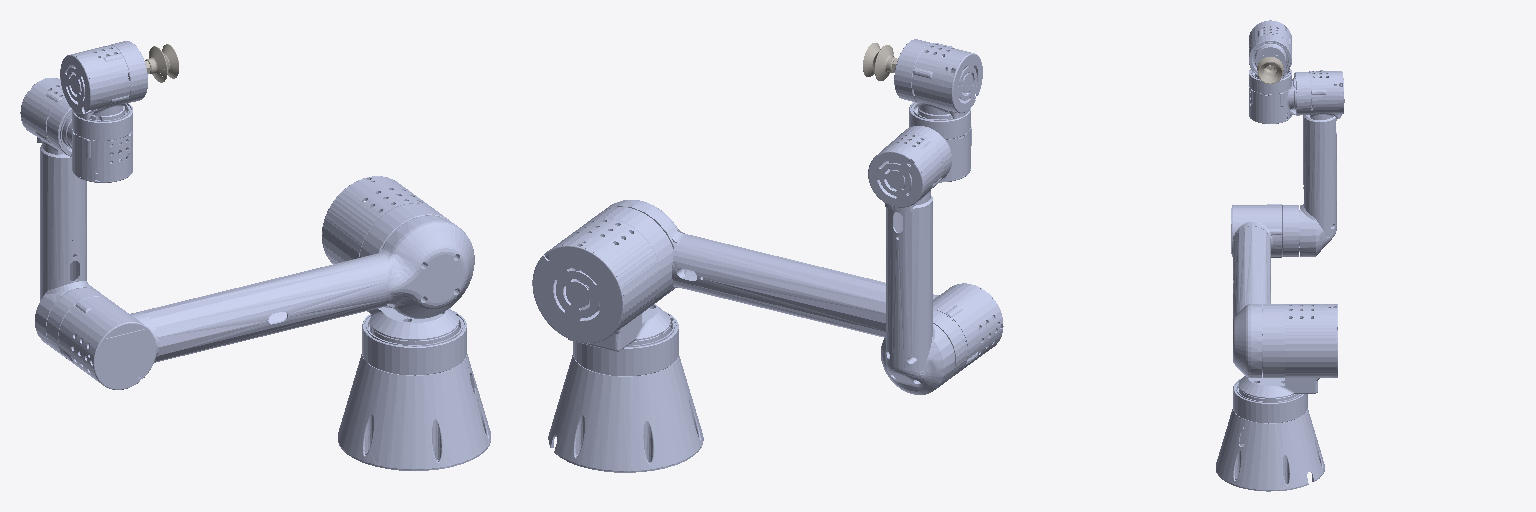
The robot description file, URDF, robot "arm_vD":
<?xml version="1.0" encoding="utf-8"?>
<!-- This URDF was automatically created by SolidWorks to URDF Exporter! Originally created by [author] ([email redacted]) 
     Commit Version: 1.5.1-0-g916b5db  Build Version: 1.5.7152.31018
     For more information, please see http://wiki.ros.org/sw_urdf_exporter -->
<robot
  name="arm_vD">
  <link
    name="base_link">
    <inertial>
      <origin
        xyz="0.00061411 0.00027568 0.062265"
        rpy="0 0 0" />
      <mass
        value="0.25197" />
      <inertia
        ixx="0.00018494"
        ixy="2.8875E-07"
        ixz="-1.4348E-07"
        iyy="0.0001849"
        iyz="-5.4126E-07"
        izz="0.00027998" />
    </inertial>
    <visual>
      <origin
        xyz="0 0 0"
        rpy="0 0 0" />
      <geometry>
        <mesh
          filename="package://arm_vD/meshes/base_link.STL" />
      </geometry>
      <material
        name="">
        <color
          rgba="0.79216 0.81961 0.93333 1" />
      </material>
    </visual>
    <collision>
      <origin
        xyz="0 0 0"
        rpy="0 0 0" />
      <geometry>
        <mesh
          filename="package://arm_vD/meshes/base_link.STL" />
      </geometry>
    </collision>
  </link>
  <link
    name="one">
    <inertial>
      <origin
        xyz="-1.82128637420953E-05 0.0198198054791734 0.0584645120644824"
        rpy="0 0 0" />
      <mass
        value="0.342035178752218" />
      <inertia
        ixx="0.000350078912828304"
        ixy="-9.99545426015234E-10"
        ixz="1.47478184311647E-07"
        iyy="0.000463072028541657"
        iyz="-4.2019912007088E-05"
        izz="0.000299054668404506" />
    </inertial>
    <visual>
      <origin
        xyz="0 0 0"
        rpy="0 0 0" />
      <geometry>
        <mesh
          filename="package://arm_vD/meshes/one.STL" />
      </geometry>
      <material
        name="">
        <color
          rgba="0.792156862745098 0.819607843137255 0.933333333333333 1" />
      </material>
    </visual>
    <collision>
      <origin
        xyz="0 0 0"
        rpy="0 0 0" />
      <geometry>
        <mesh
          filename="package://arm_vD/meshes/one.STL" />
      </geometry>
    </collision>
  </link>
  <joint
    name="joint_one"
    type="revolute">
    <origin
      xyz="0.0007665 0.00087415 0.096926"
      rpy="0 0 0" />
    <parent
      link="base_link" />
    <child
      link="one" />
    <axis
      xyz="0 0 1" />
    <limit
      lower="0"
      upper="0"
      effort="0"
      velocity="0" />
  </joint>
  <link
    name="two">
    <inertial>
      <origin
        xyz="-0.299752573219372 -0.00807167893835456 0.00908043600399758"
        rpy="0 0 0" />
      <mass
        value="0.168290747081591" />
      <inertia
        ixx="4.93841680602432E-05"
        ixy="9.17204722303832E-07"
        ixz="4.97022541253983E-08"
        iyy="7.05286762607547E-05"
        iyz="-8.3071354643813E-09"
        izz="5.16667239026988E-05" />
    </inertial>
    <visual>
      <origin
        xyz="0 0 0"
        rpy="0 0 0" />
      <geometry>
        <mesh
          filename="package://arm_vD/meshes/two.STL" />
      </geometry>
      <material
        name="">
        <color
          rgba="0.792156862745098 0.819607843137255 0.933333333333333 1" />
      </material>
    </visual>
    <collision>
      <origin
        xyz="0 0 0"
        rpy="0 0 0" />
      <geometry>
        <mesh
          filename="package://arm_vD/meshes/two.STL" />
      </geometry>
    </collision>
  </link>
  <joint
    name="joint_two"
    type="revolute">
    <origin
      xyz="0 0 0.06715"
      rpy="0 -0.0306 0" />
    <parent
      link="one" />
    <child
      link="two" />
    <axis
      xyz="0 -1 0" />
    <limit
      lower="0"
      upper="0"
      effort="0"
      velocity="0" />
  </joint>
  <link
    name="three">
    <inertial>
      <origin
        xyz="0.000300777246945327 0.0522604486493257 0.112220635213957"
        rpy="0 0 0" />
      <mass
        value="0.103726489322884" />
      <inertia
        ixx="0.000187509324417779"
        ixy="-5.32066647912261E-07"
        ixz="-2.7029366014351E-08"
        iyy="0.000195656825410171"
        iyz="-1.28249794750113E-05"
        izz="3.05208557343435E-05" />
    </inertial>
    <visual>
      <origin
        xyz="0 0 0"
        rpy="0 0 0" />
      <geometry>
        <mesh
          filename="package://arm_vD/meshes/three.STL" />
      </geometry>
      <material
        name="">
        <color
          rgba="0.792156862745098 0.819607843137255 0.933333333333333 1" />
      </material>
    </visual>
    <collision>
      <origin
        xyz="0 0 0"
        rpy="0 0 0" />
      <geometry>
        <mesh
          filename="package://arm_vD/meshes/three.STL" />
      </geometry>
    </collision>
  </link>
  <joint
    name="joint_three"
    type="revolute">
    <origin
      xyz="-0.30306 0 0.0092765"
      rpy="0 0.0306 0" />
    <parent
      link="two" />
    <child
      link="three" />
    <axis
      xyz="0 1 0" />
    <limit
      lower="0"
      upper="0"
      effort="0"
      velocity="0" />
  </joint>
  <link
    name="four">
    <inertial>
      <origin
        xyz="-5.75271244234732E-05 0.00157354315545316 0.00647949436807055"
        rpy="0 0 0" />
      <mass
        value="0.0541218660786479" />
      <inertia
        ixx="1.34547189315118E-05"
        ixy="-1.79650674199099E-08"
        ixz="-1.52298519776758E-09"
        iyy="1.14562531982262E-05"
        iyz="-2.62969192282698E-08"
        izz="2.03028491505944E-05" />
    </inertial>
    <visual>
      <origin
        xyz="0 0 0"
        rpy="0 0 0" />
      <geometry>
        <mesh
          filename="package://arm_vD/meshes/four.STL" />
      </geometry>
      <material
        name="">
        <color
          rgba="0.792156862745098 0.819607843137255 0.933333333333333 1" />
      </material>
    </visual>
    <collision>
      <origin
        xyz="0 0 0"
        rpy="0 0 0" />
      <geometry>
        <mesh
          filename="package://arm_vD/meshes/four.STL" />
      </geometry>
    </collision>
  </link>
  <joint
    name="joint_four"
    type="revolute">
    <origin
      xyz="0.0044683 0.00034551 0.1778"
      rpy="0 0 0.07717" />
    <parent
      link="three" />
    <child
      link="four" />
    <axis
      xyz="0 -1 0" />
    <limit
      lower="0"
      upper="0"
      effort="0"
      velocity="0" />
  </joint>
  <link
    name="five">
    <inertial>
      <origin
        xyz="0.00763665732898861 -0.000491971526634216 0.0450104083826423"
        rpy="0 0 0" />
      <mass
        value="0.0392861494708692" />
      <inertia
        ixx="1.77025812137777E-05"
        ixy="-4.57780235223266E-07"
        ixz="2.74507610583042E-08"
        iyy="1.17800129679942E-05"
        iyz="-2.07016372069683E-08"
        izz="1.00053312879359E-05" />
    </inertial>
    <visual>
      <origin
        xyz="0 0 0"
        rpy="0 0 0" />
      <geometry>
        <mesh
          filename="package://arm_vD/meshes/five.STL" />
      </geometry>
      <material
        name="">
        <color
          rgba="0.792156862745098 0.819607843137255 0.933333333333333 1" />
      </material>
    </visual>
    <collision>
      <origin
        xyz="0 0 0"
        rpy="0 0 0" />
      <geometry>
        <mesh
          filename="package://arm_vD/meshes/five.STL" />
      </geometry>
    </collision>
  </link>
  <joint
    name="joint_five"
    type="revolute">
    <origin
      xyz="0 -0.00016552 0.01115"
      rpy="0 0 0" />
    <parent
      link="four" />
    <child
      link="five" />
    <axis
      xyz="0 0 1" />
    <limit
      lower="0"
      upper="0"
      effort="0"
      velocity="0" />
  </joint>
  <link
    name="end">
    <inertial>
      <origin
        xyz="0.0357317059660863 -0.00277607558091905 -2.18326698631088E-06"
        rpy="0 0 0" />
      <mass
        value="0.0244146645106976" />
      <inertia
        ixx="2.2100041218775E-06"
        ixy="7.69507241686945E-08"
        ixz="6.96441497044803E-11"
        iyy="3.18819969170775E-06"
        iyz="-4.75902554422469E-10"
        izz="3.1971730112937E-06" />
    </inertial>
    <visual>
      <origin
        xyz="0 0 0"
        rpy="0 0 0" />
      <geometry>
        <mesh
          filename="package://arm_vD/meshes/end.STL" />
      </geometry>
      <material
        name="">
        <color
          rgba="0.776470588235294 0.756862745098039 0.737254901960784 1" />
      </material>
    </visual>
    <collision>
      <origin
        xyz="0 0 0"
        rpy="0 0 0" />
      <geometry>
        <mesh
          filename="package://arm_vD/meshes/end.STL" />
      </geometry>
    </collision>
  </link>
  <joint
    name="end_joint"
    type="revolute">
    <origin
      xyz="0.013921 -0.0010764 0.046975"
      rpy="0 0 0" />
    <parent
      link="five" />
    <child
      link="end" />
    <axis
      xyz="-0.99702 0.077094 0" />
    <limit
      lower="0"
      upper="0"
      effort="0"
      velocity="0" />
  </joint>
</robot>

--- Facts derived from the render (not from the file) ---
The picture shows the robot from 3 angles, left to right: view 1: azimuth 30°, elevation 25°; view 2: azimuth 150°, elevation 25°; view 3: azimuth 270°, elevation 25°; orthographic projection.
Model arm_vD with 7 links and 6 joints (6 revolute), rooted at base_link, posed every joint at zero.
Links seen in each view (by area): view 1: two, base_link, three, one, five, four, end; view 2: two, base_link, one, three, five, four, end; view 3: base_link, two, one, three, four, five, end.
Boxes of the visible links, <box> form: two: <box>46,215,474,389</box>; base_link: <box>338,311,490,470</box>; three: <box>20,78,98,347</box>; one: <box>322,176,458,340</box>; five: <box>60,41,147,119</box>; four: <box>67,103,132,182</box>; end: <box>145,44,178,82</box>; two: <box>602,200,1003,380</box>; base_link: <box>548,312,703,472</box>; one: <box>532,207,672,351</box>; three: <box>868,126,954,394</box>; five: <box>894,39,982,118</box>; four: <box>909,102,971,182</box>; end: <box>863,43,897,80</box>; base_link: <box>1216,378,1324,491</box>; two: <box>1231,204,1299,377</box>; one: <box>1239,304,1337,398</box>; three: <box>1292,70,1344,256</box>; four: <box>1249,69,1295,123</box>; five: <box>1249,20,1291,75</box>; end: <box>1257,57,1283,83</box>.
Bounding box of the posed robot: 0.3975 × 0.1506 × 0.4254 m (x, y, z).
7 mesh visuals loaded from 7 distinct referenced files (7 binary STL).